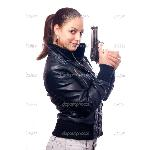Pistol: (88, 25, 118, 63)
